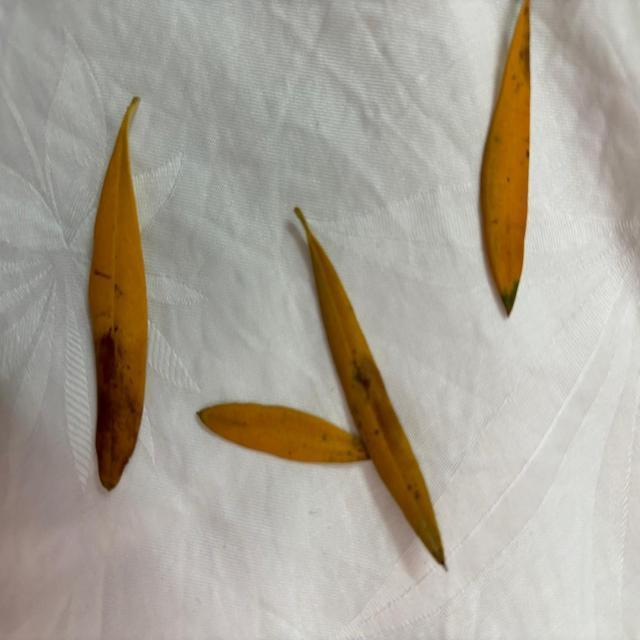OlivePeacockSpot: (294, 207, 444, 566), (89, 97, 148, 490), (480, 0, 530, 315), (196, 402, 368, 463)
